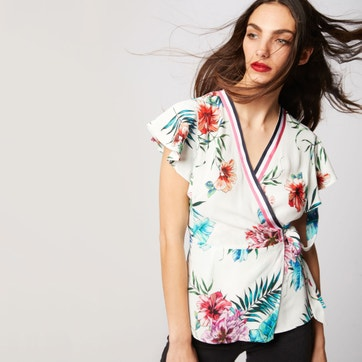C_short blouse: (149, 89, 339, 344)
